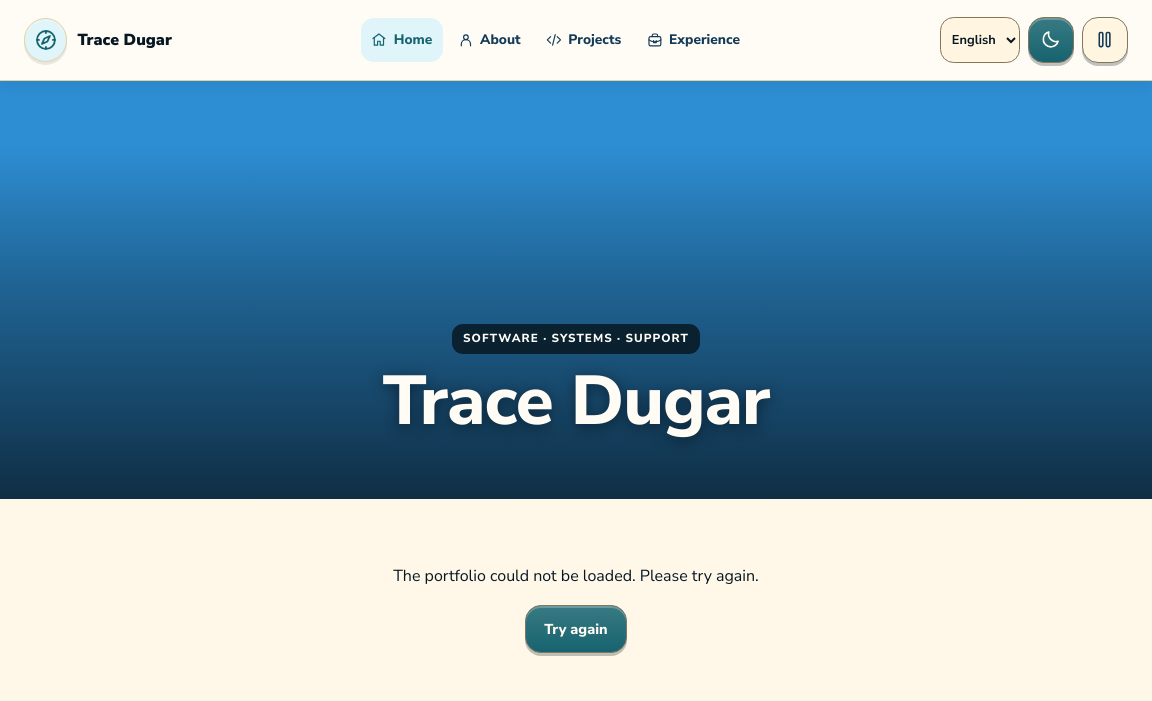
it: failed data loads show a recoverable error instead of an alert or blank page
Expected: the message shows "The portfolio could not be loaded", x1=393 y1=565 x2=759 y2=587
Click the button "Try again".
click(576, 629)  # box x1=525 y1=605 x2=627 y2=653
(page scrolled)
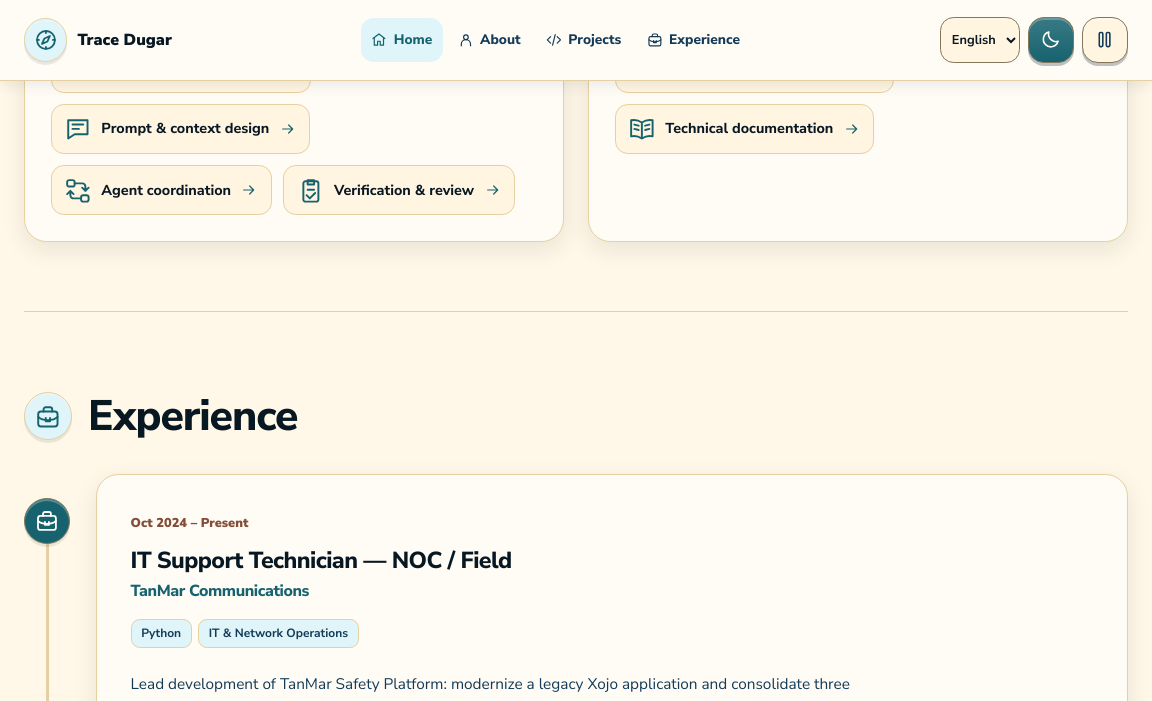
Result: the heading "Experience" is shown at x1=88 y1=391 x2=297 y2=442
